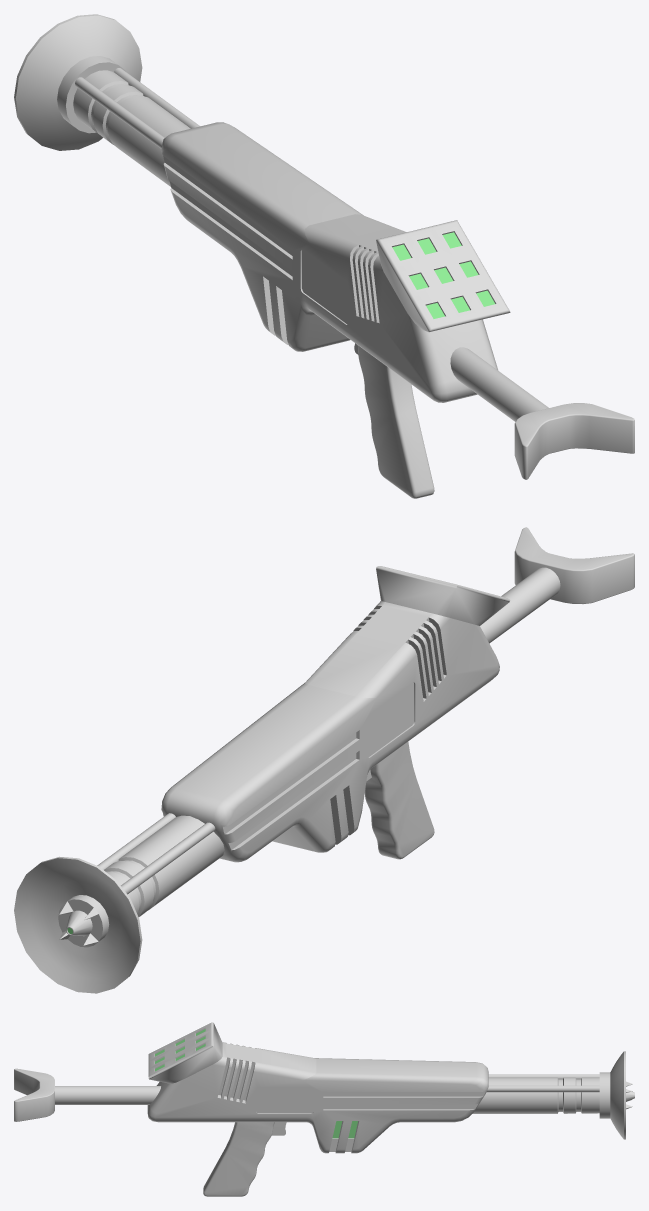
File: electroGun.glb
3 views of the same model, one above another, from view 1: azimuth 30°, elevation 25°; view 2: azimuth 150°, elevation 25°; view 3: azimuth 270°, elevation 25° (orthographic). The views are drawn at different scales.
Parts seen in each view (by area): view 1: electroGun; view 2: electroGun; view 3: electroGun.
Part boxes in pixels (<box>): electroGun: <box>14,14,634,498</box>; electroGun: <box>14,527,634,993</box>; electroGun: <box>14,1022,634,1196</box>.
Size of the model in its own units: 0.0981 by 0.195 by 0.6852.
